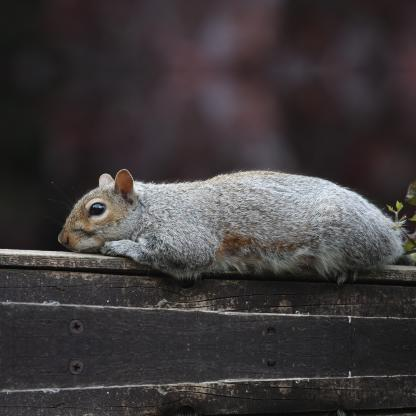Squirrel: (40, 167, 406, 280)
